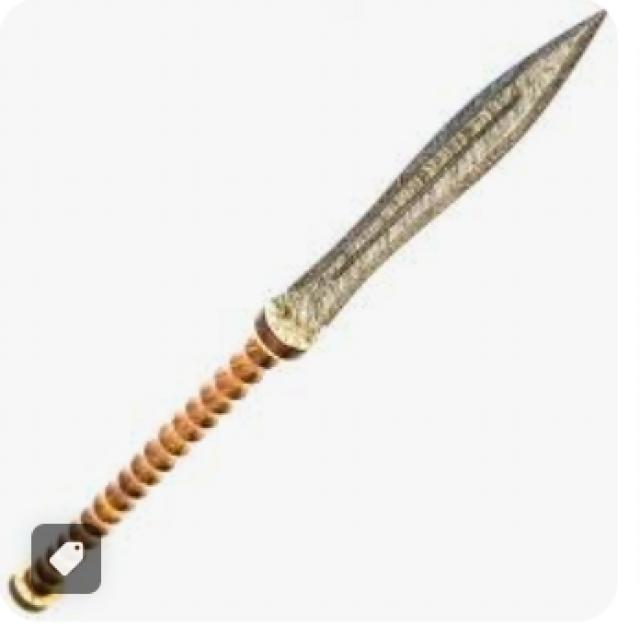spear: (10, 10, 627, 620)
